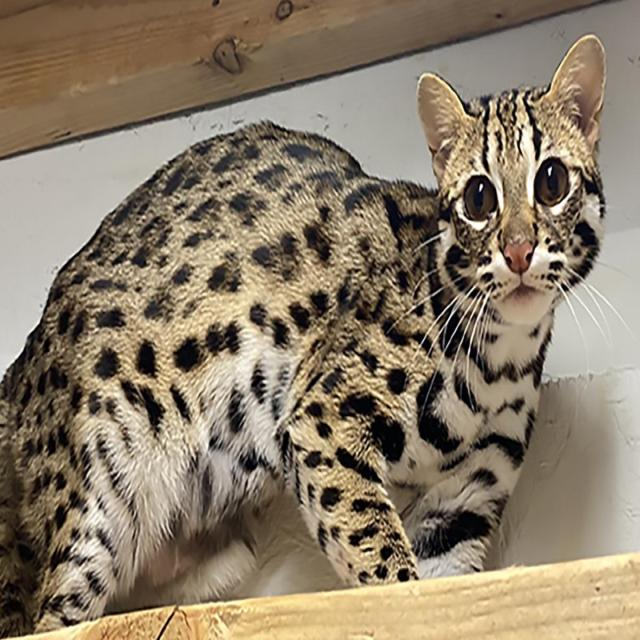leopard: (38, 91, 628, 521)
